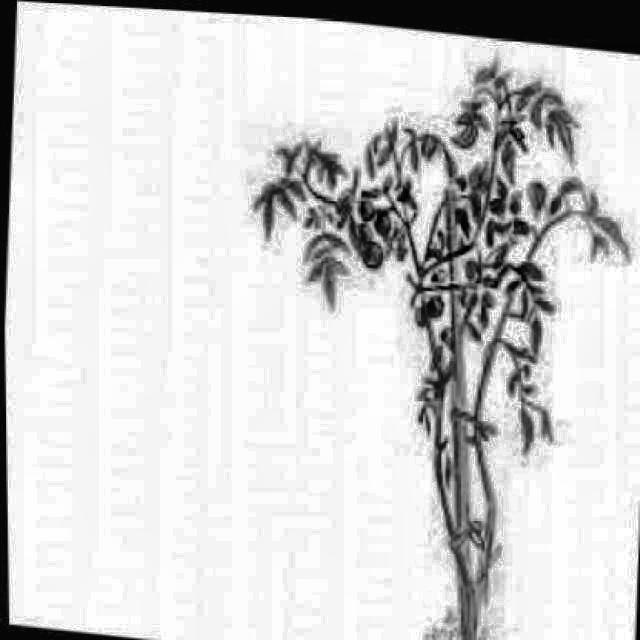plants: (220, 16, 638, 638)
